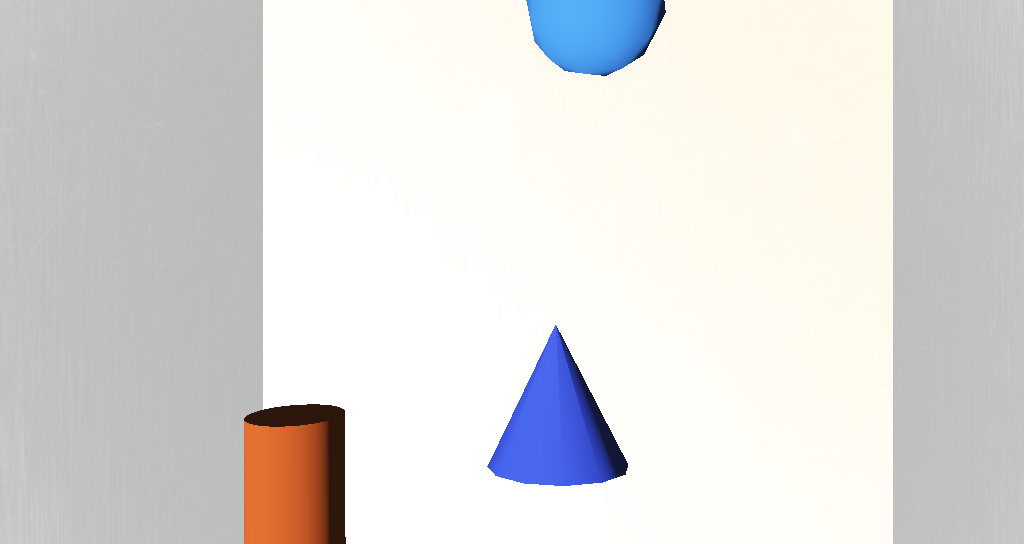cone: (344, 313, 397, 365)
cylinder: (458, 284, 525, 336)
sphere: (482, 157, 542, 205)
